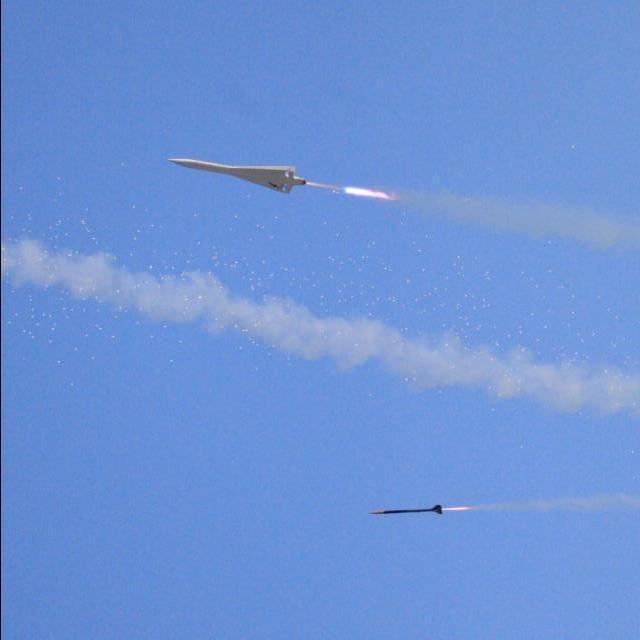missile: (169, 156, 311, 203), (375, 502, 449, 524)
